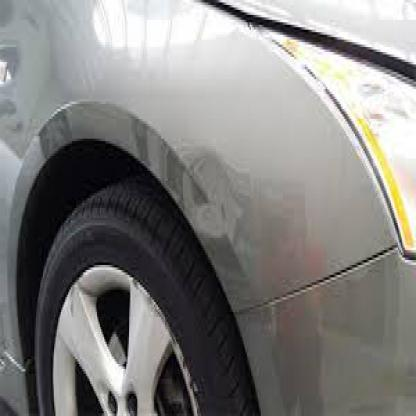dent: (190, 164, 237, 221)
